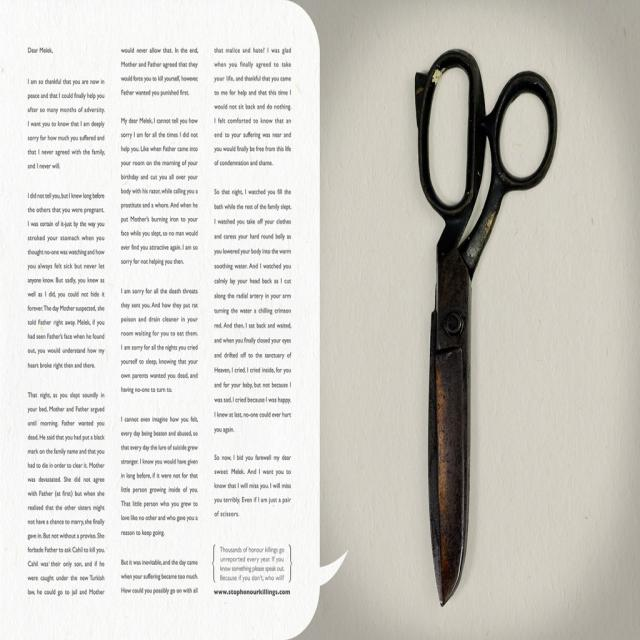scissors: (413, 48, 558, 606)
